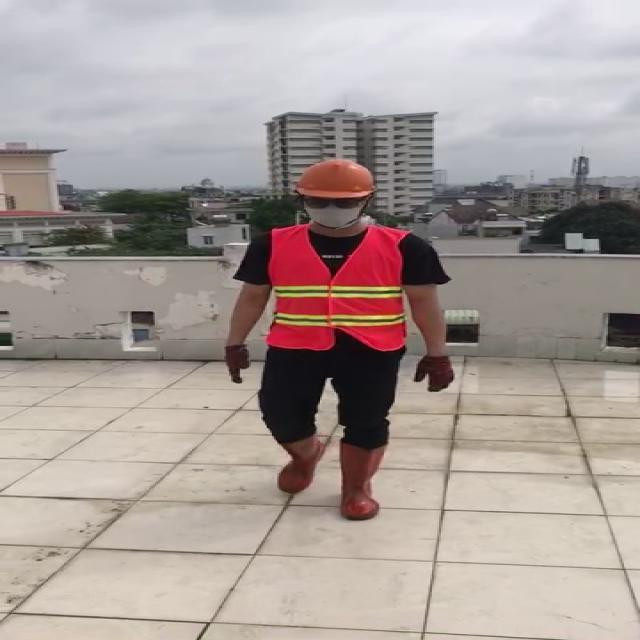gloves: (408, 341, 459, 395), (217, 336, 255, 386)
goggles: (299, 190, 366, 218)
helmet: (292, 158, 381, 198)
safety_vest: (265, 227, 409, 353)
